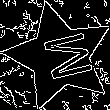M_W: (28, 28, 91, 85)
